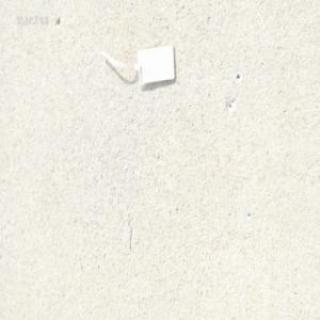LuggageTagtrack_idkeyframe: (98, 40, 176, 90)
